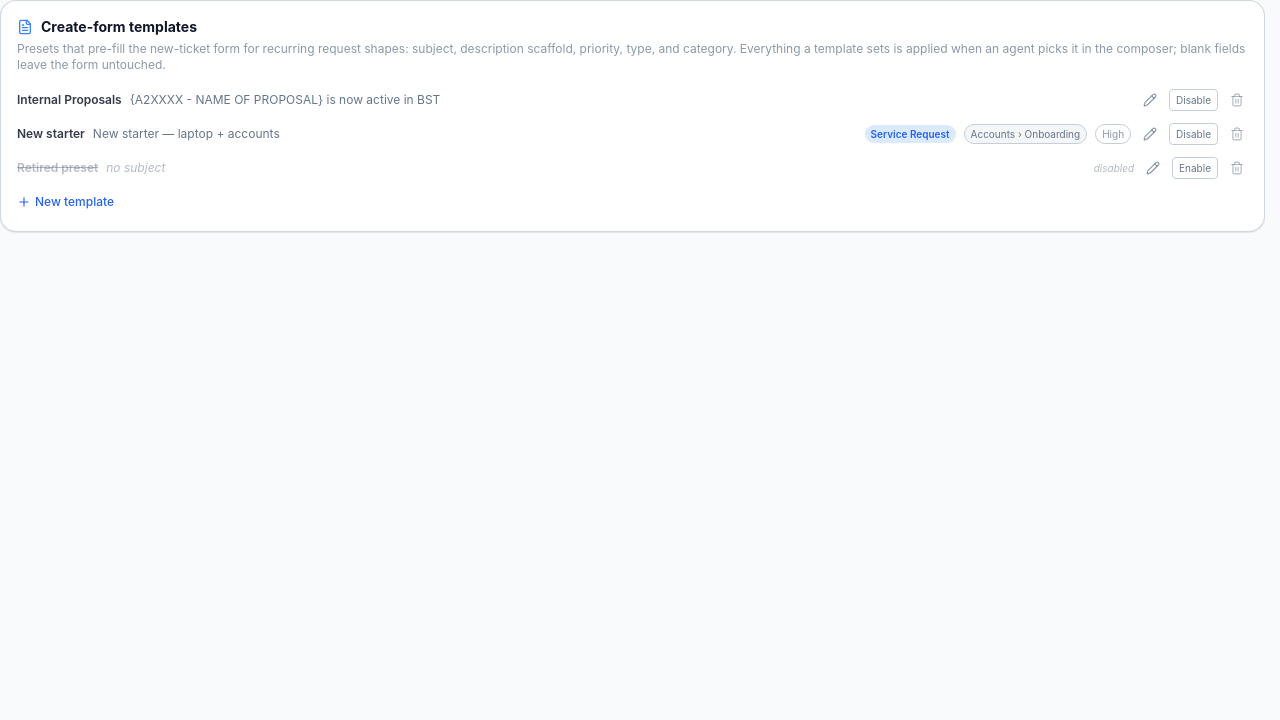
CreateTemplatesSection (Phase TT) › subcategory picker follows the chosen category and resets when the category changes
expect the text "Internal Proposals" is shown: met, box [17, 92, 122, 108]
expect the text "Accounts › Onboarding" is shown: met, box [964, 124, 1087, 144]
Click the button "New template" at coordinates (66, 202), box [17, 194, 114, 210]
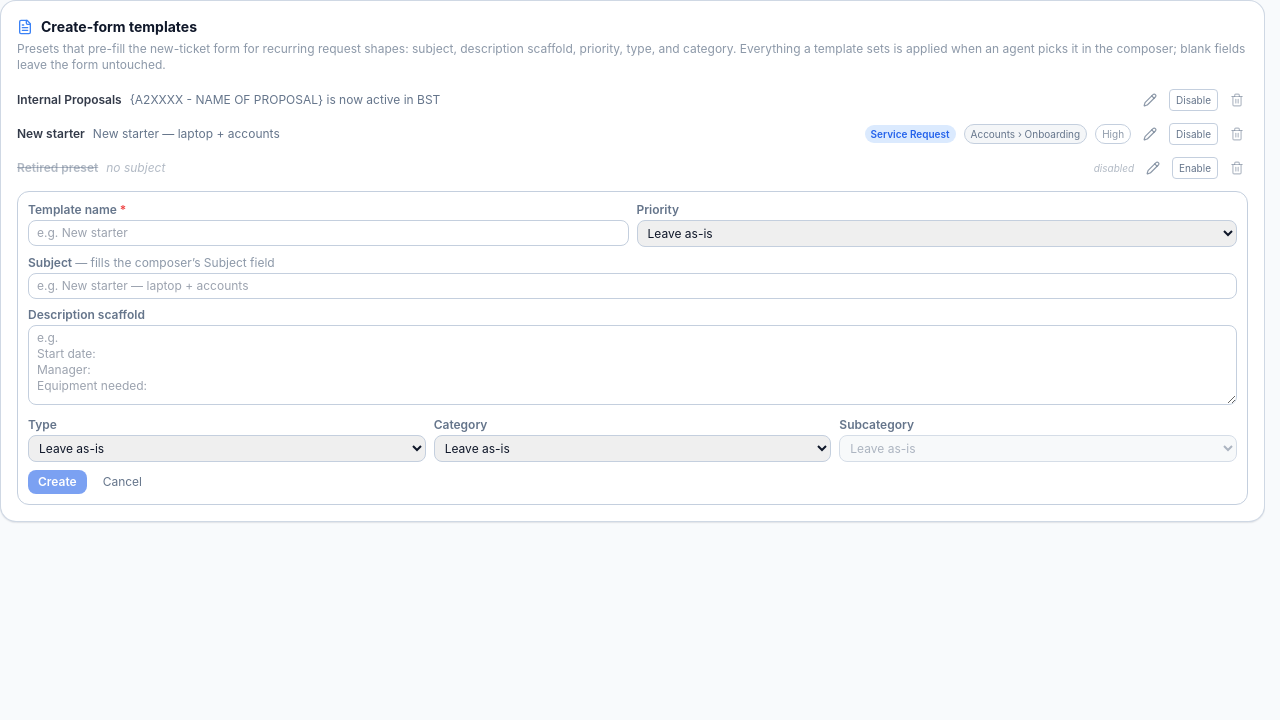
expect the dropdown labelled "Subcategory" is disabled: met, box [839, 435, 1237, 462]
Select "Accounts" in the dropdown labelled "Category" at coordinates (633, 448), box [434, 435, 831, 462]
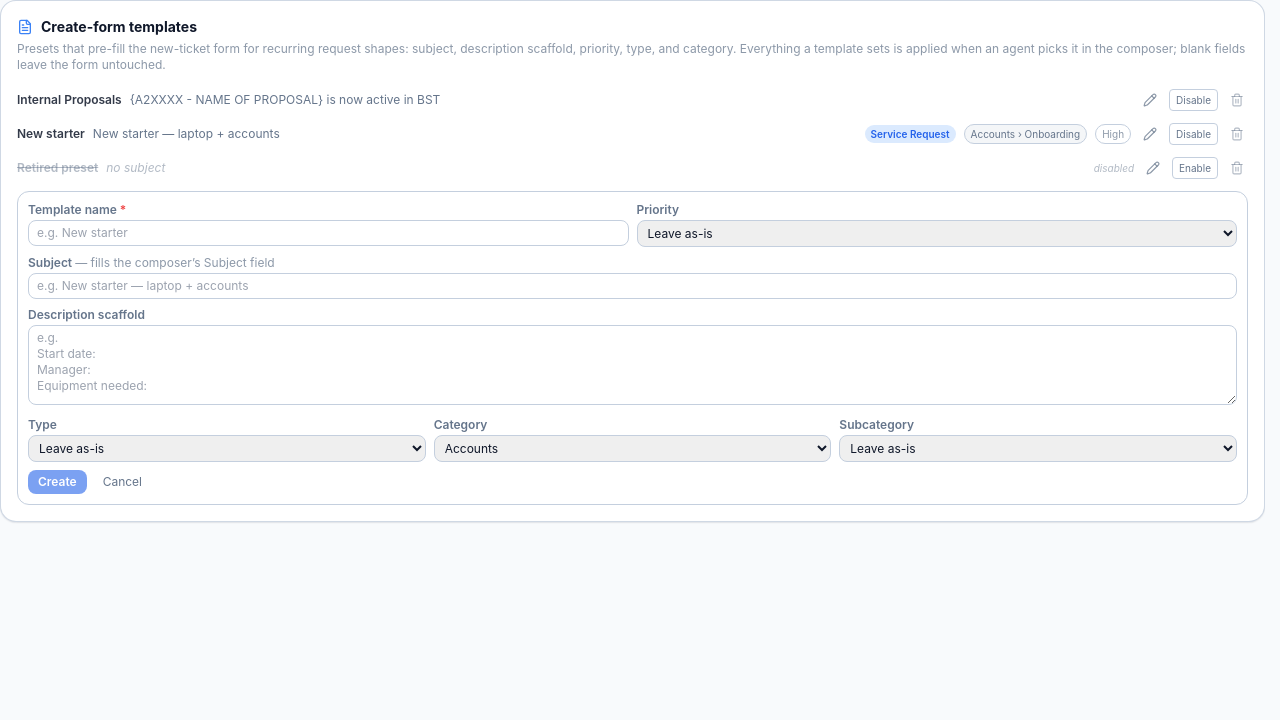
expect the dropdown labelled "Subcategory" is enabled: met
Select "Onboarding" in the dropdown labelled "Subcategory" at coordinates (1038, 448), box [839, 435, 1237, 462]
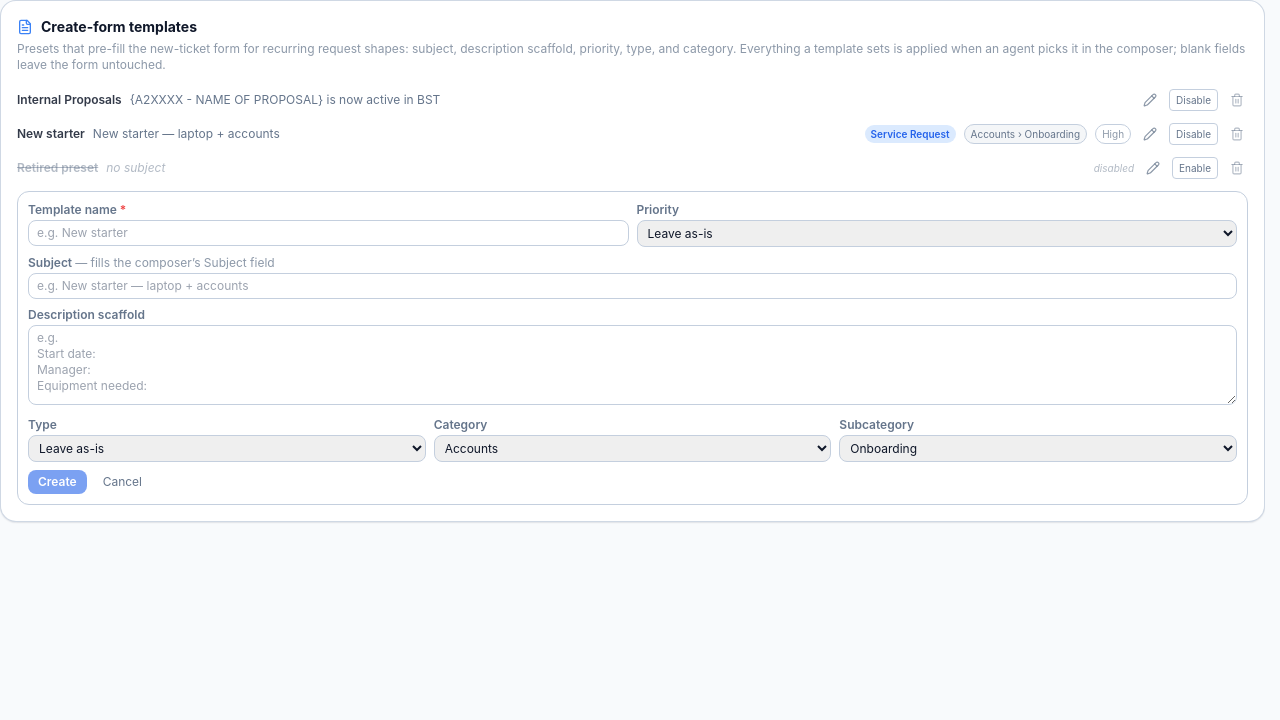
Note: Hardware has no subcategories → picker disabled again and the stale pick is dropped.
Select "Hardware" in the dropdown labelled "Category" at coordinates (633, 448), box [434, 435, 831, 462]
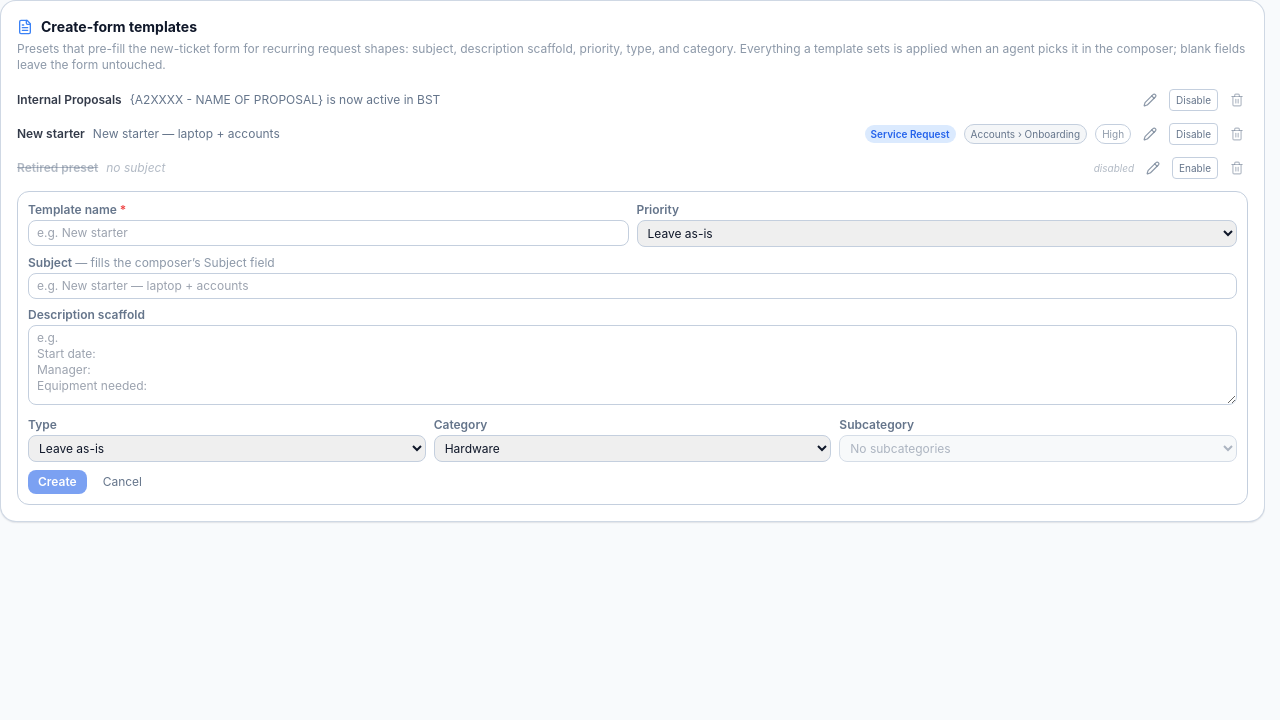
expect the dropdown labelled "Subcategory" is disabled: met, box [839, 435, 1237, 462]
